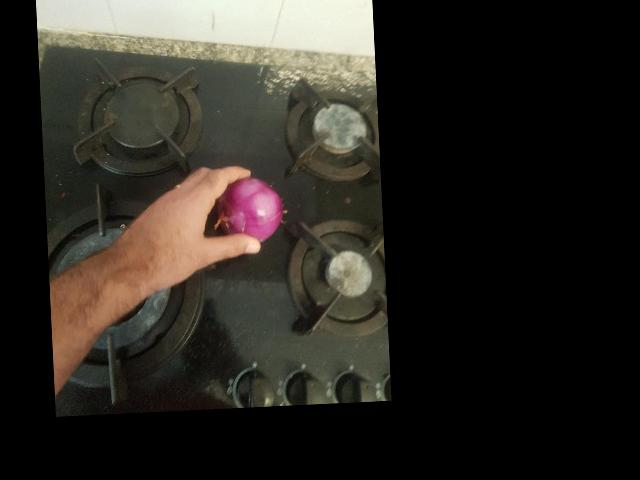onion: (263, 68, 316, 121)
